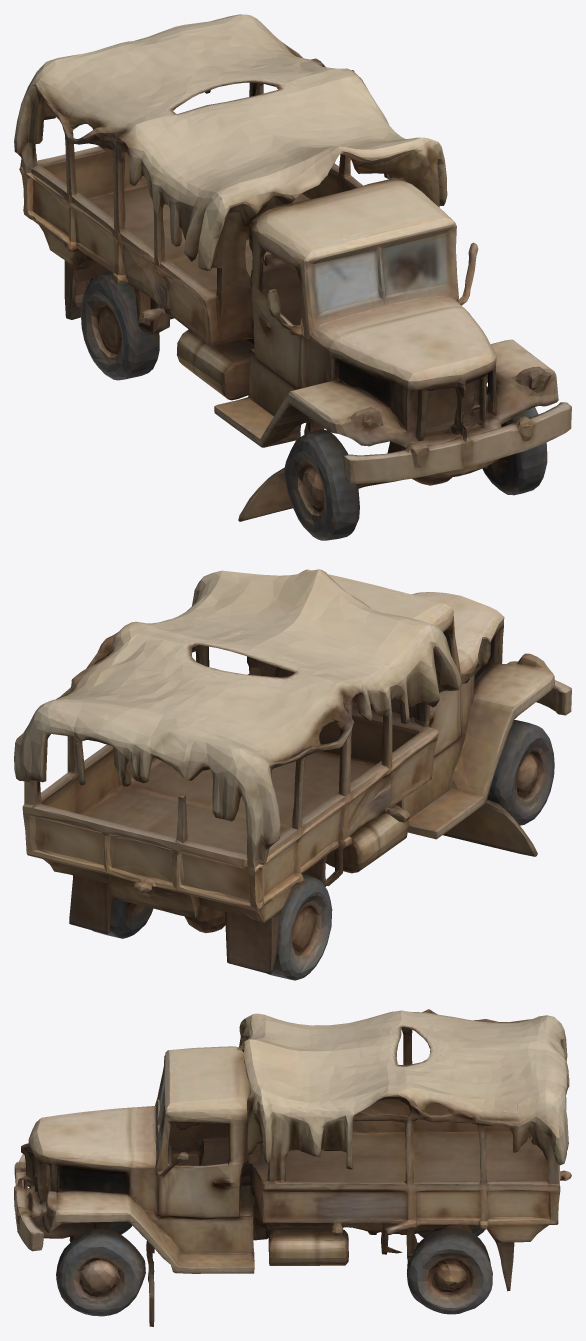
Rendered from camion.glb.
3 views of the same model, one above another, from view 1: azimuth 30°, elevation 25°; view 2: azimuth 150°, elevation 25°; view 3: azimuth 270°, elevation 25° (orthographic). The views are drawn at different scales.
Parts seen in each view (by area): view 1: world; view 2: world; view 3: world.
Boxes of the visible parts, x1,y1,x2,y2 form: world: (14,14,571,540); world: (14,569,571,980); world: (14,1009,571,1326).
Size of the model in its own units: 0.4933 by 0.4761 by 0.9979.
1 material, 1 textured.
